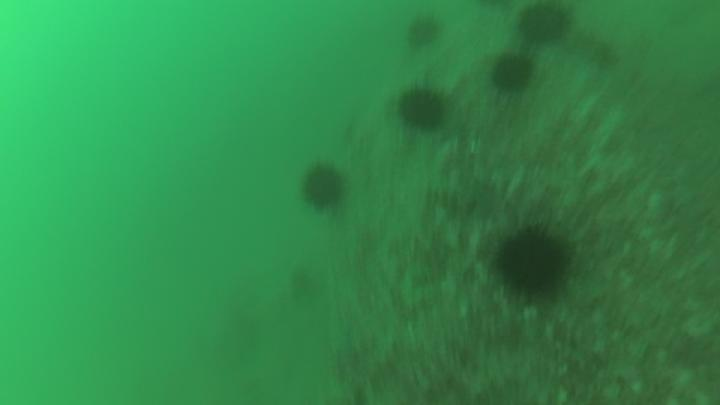echinus: (492, 224, 573, 304), (394, 82, 448, 139), (300, 159, 350, 213), (518, 3, 573, 52), (491, 49, 537, 98), (404, 16, 444, 57)
